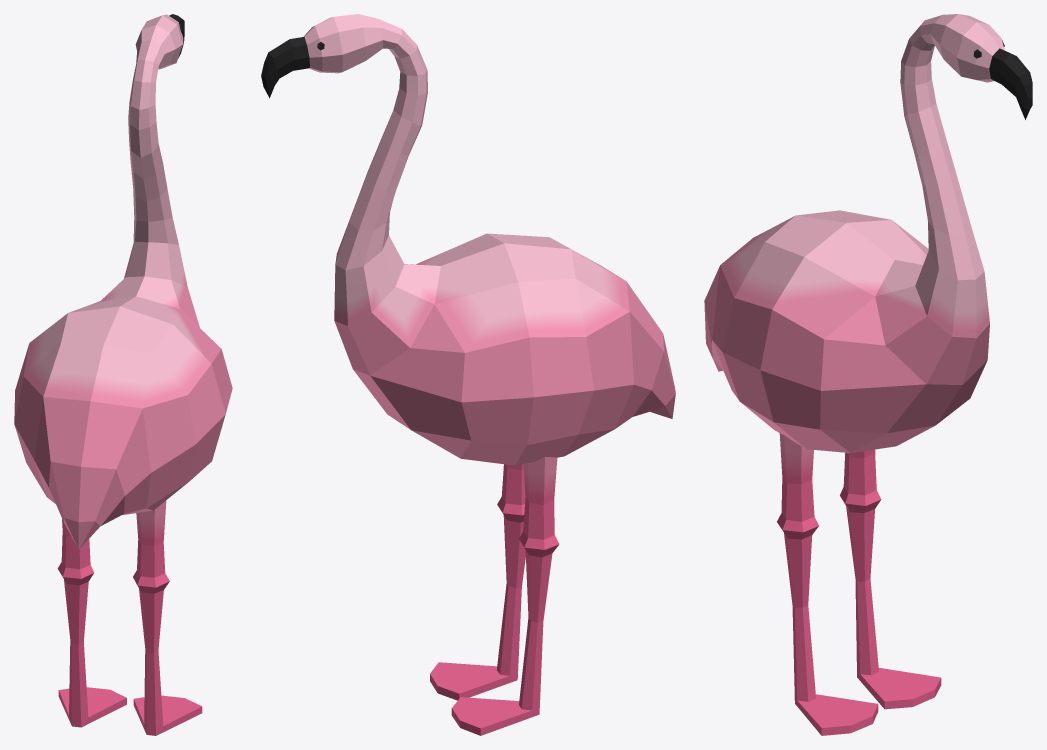
Rendered from animal.039.fbx.
3 renders of one model, left to right at view 1: azimuth 30°, elevation 25°; view 2: azimuth 150°, elevation 25°; view 3: azimuth 270°, elevation 25°, orthographic. The views are drawn at different scales.
Parts seen in each view (by area): view 1: animal_039; view 2: animal_039; view 3: animal_039.
Boxes of the visible parts, x1=… form: animal_039: x1=14, y1=14, x2=232, y2=735; animal_039: x1=261, y1=14, x2=675, y2=735; animal_039: x1=704, y1=14, x2=1032, y2=735.
Size of the model in its own units: 309 by 759 by 309.
